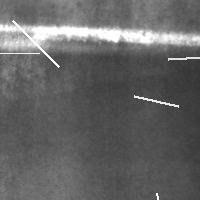scratches: (1, 22, 199, 50), (8, 16, 64, 72), (129, 91, 183, 111), (163, 49, 200, 64), (0, 48, 44, 58), (151, 188, 167, 200)
